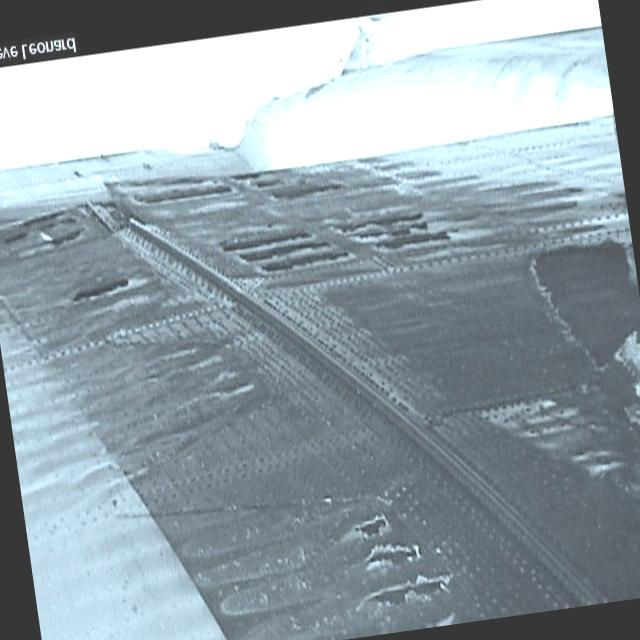crack: (328, 502, 464, 622), (65, 273, 136, 309)
